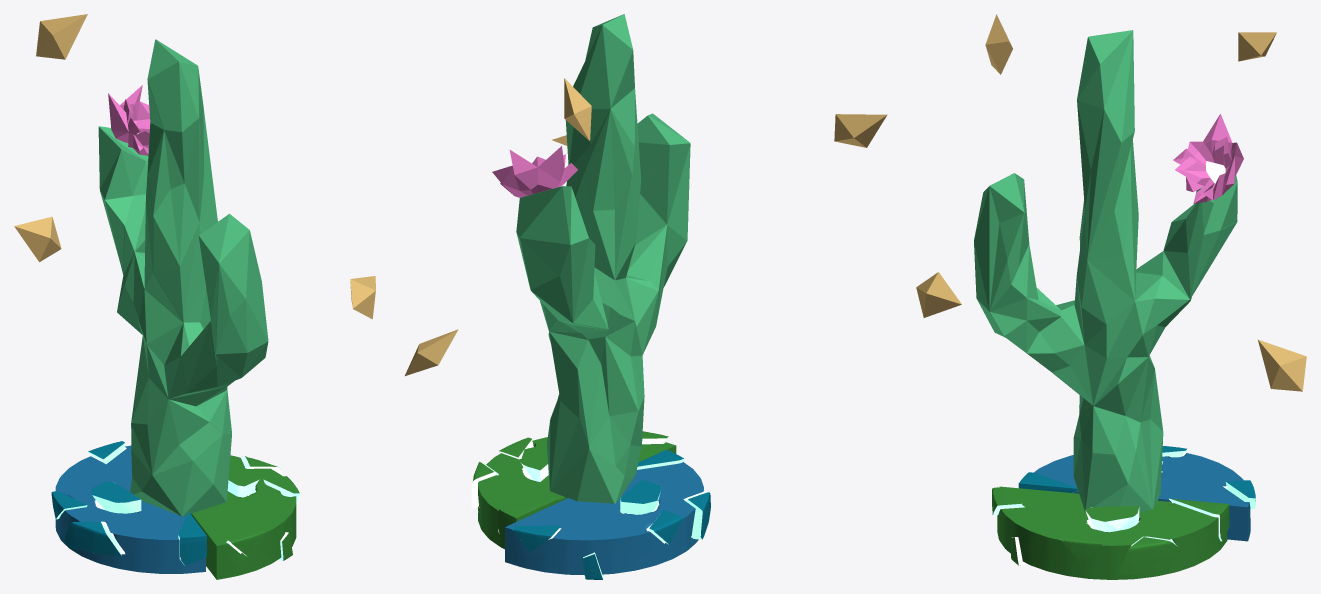
File: green.gltf
3 views of the same model, side by side, from view 1: azimuth 30°, elevation 25°; view 2: azimuth 150°, elevation 25°; view 3: azimuth 270°, elevation 25° (orthographic). The views are drawn at different scales.
Parts seen in each view (by area): view 1: Cube.001, Retopo_Cylinder.001, Retopo_Cylinder.006, Retopo_Cylinder.007_cell.001, Retopo_Cylinder.007_cell.002, Plane.007, Plane.003, Plane.004, Plane.005; view 2: Cube.001, Retopo_Cylinder.001, Retopo_Cylinder.007_cell.001, Retopo_Cylinder.006, Retopo_Cylinder.007_cell.002, Plane.007, Plane.004, Plane.003, Plane.002; view 3: Cube.001, Retopo_Cylinder.006, Retopo_Cylinder.007_cell.002, Retopo_Cylinder.001, Plane.007, Plane.002, Retopo_Cylinder.007_cell.001, Plane.005, Plane.004, Plane.003.
Boxes of the visible parts, x1=… form: Cube.001: x1=98, y1=39, x2=268, y2=516; Retopo_Cylinder.001: x1=55, y1=445, x2=205, y2=573; Retopo_Cylinder.006: x1=191, y1=455, x2=296, y2=579; Retopo_Cylinder.007_cell.001: x1=51, y1=441, x2=206, y2=565; Retopo_Cylinder.007_cell.002: x1=227, y1=456, x2=299, y2=560; Plane.007: x1=108, y1=85, x2=150, y2=155; Plane.003: x1=36, y1=14, x2=87, y2=59; Plane.004: x1=14, y1=216, x2=61, y2=261; Plane.005: x1=350, y1=276, x2=375, y2=319; Cube.001: x1=516, y1=14, x2=690, y2=503; Retopo_Cylinder.001: x1=505, y1=462, x2=703, y2=575; Retopo_Cylinder.007_cell.001: x1=512, y1=449, x2=710, y2=579; Retopo_Cylinder.006: x1=478, y1=437, x2=676, y2=549; Retopo_Cylinder.007_cell.002: x1=471, y1=431, x2=668, y2=540; Plane.007: x1=492, y1=146, x2=577, y2=197; Plane.004: x1=834, y1=114, x2=887, y2=147; Plane.003: x1=564, y1=78, x2=591, y2=140; Plane.002: x1=405, y1=329, x2=458, y2=375; Cube.001: x1=974, y1=30, x2=1237, y2=512; Retopo_Cylinder.006: x1=997, y1=486, x2=1227, y2=579; Retopo_Cylinder.007_cell.002: x1=992, y1=487, x2=1229, y2=575; Retopo_Cylinder.001: x1=1034, y1=453, x2=1250, y2=541; Plane.007: x1=1173, y1=114, x2=1243, y2=203; Plane.002: x1=1258, y1=339, x2=1306, y2=391; Retopo_Cylinder.007_cell.001: x1=1018, y1=446, x2=1255, y2=508; Plane.005: x1=916, y1=272, x2=961, y2=317; Plane.004: x1=985, y1=14, x2=1012, y2=74; Plane.003: x1=1238, y1=32, x2=1276, y2=61.
Bounding box in the file's own units: 4.29 × 5.88 × 4.19.
